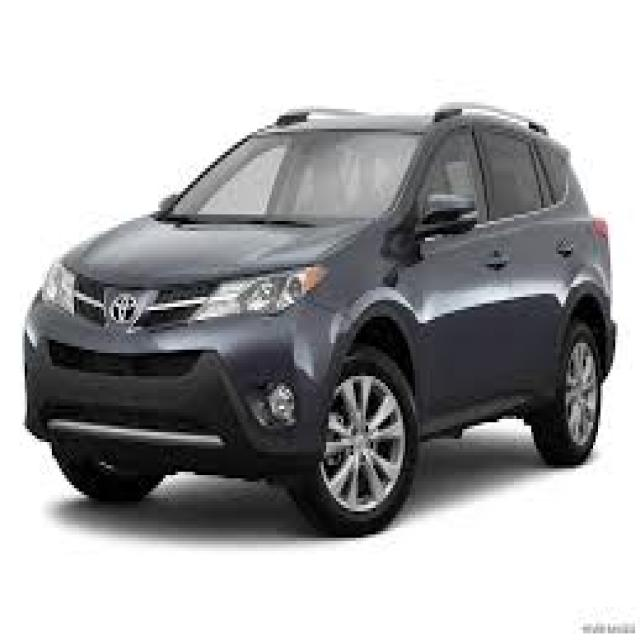light_vehicle: (22, 102, 618, 538)
